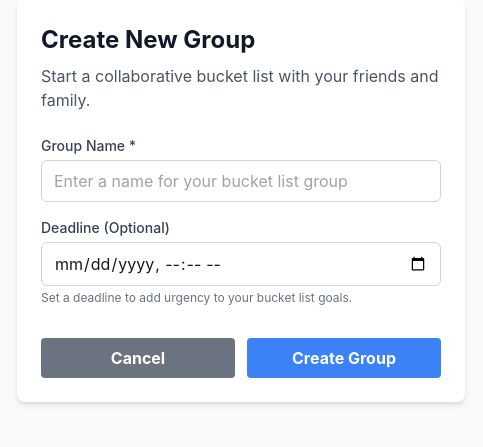
Test: CreateGroupForm › validates group name length
Type "A" into the field labelled "Group Name *".
click(241, 181); type("A")  # box [41, 160, 441, 202]
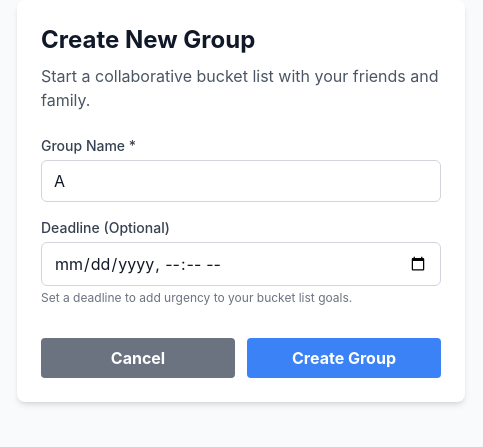
Click the button "Create Group".
click(344, 358)  # box [247, 338, 441, 378]
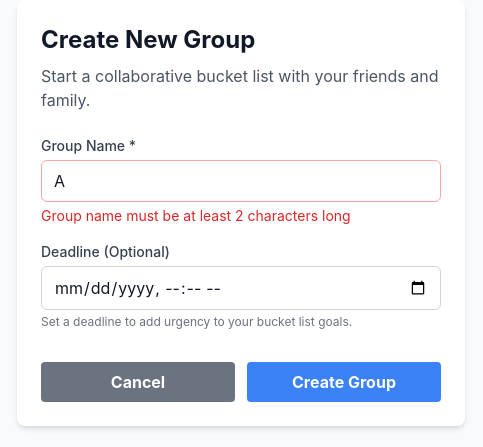
Expected: the text "Group name must be at least 2 characters long" is shown, [41, 207, 351, 224]
